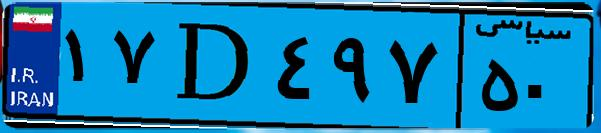0: (525, 38, 570, 115)
1: (57, 26, 110, 100)
4: (270, 28, 330, 110)
5: (475, 38, 525, 113)
7: (385, 28, 445, 110), (110, 28, 158, 98)
9: (330, 28, 385, 110)
D: (158, 12, 270, 120)
